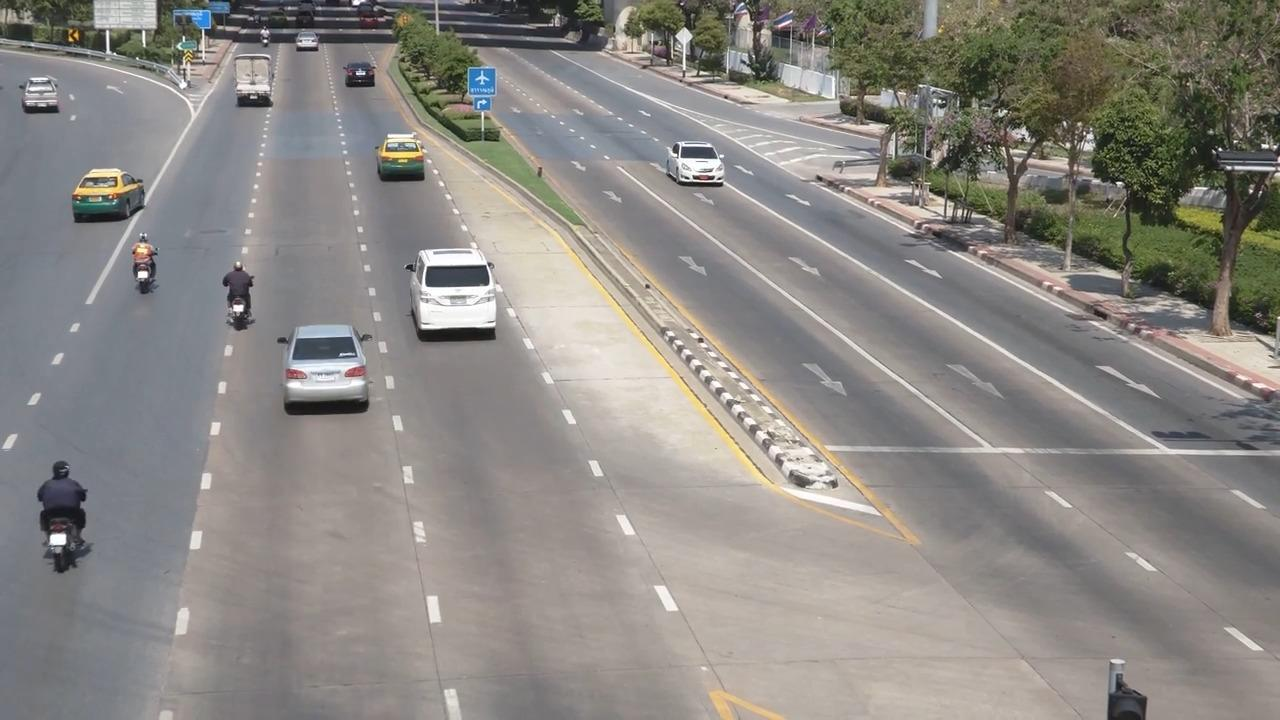CAR: (269, 316, 385, 424), (401, 239, 512, 347), (57, 157, 152, 230), (655, 129, 736, 196), (375, 122, 440, 196), (226, 50, 282, 120), (16, 68, 69, 126), (336, 57, 387, 102), (289, 28, 330, 68)
MOTOR: (33, 452, 95, 599), (204, 252, 269, 341), (113, 227, 177, 306)
